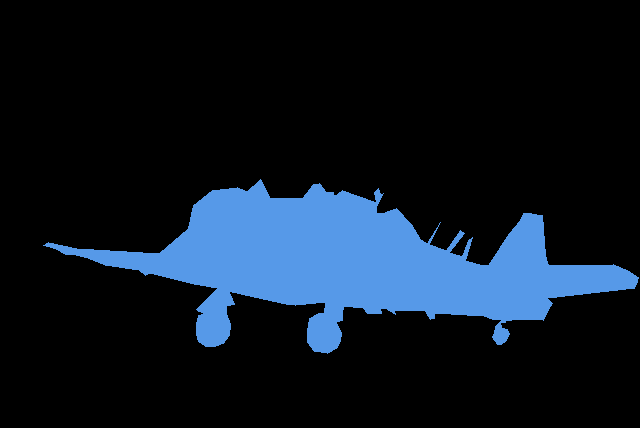Airplane: (43, 179, 639, 353)
